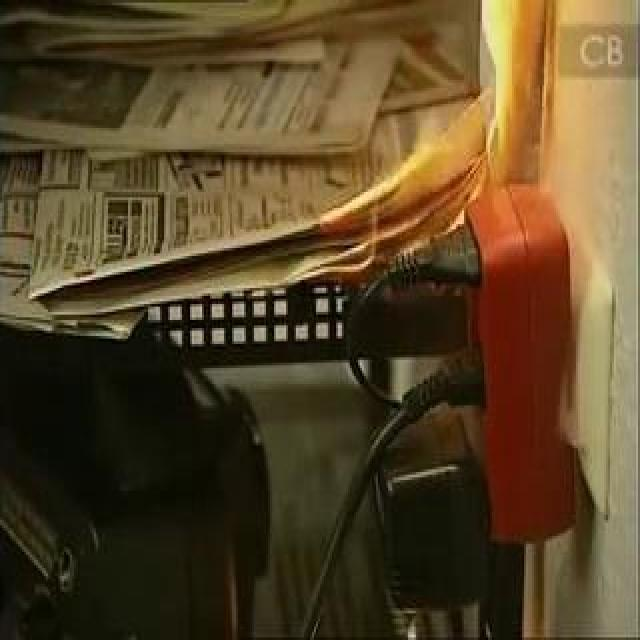Fire: (238, 2, 524, 314)
